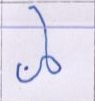e_matra: (28, 5, 51, 25)
